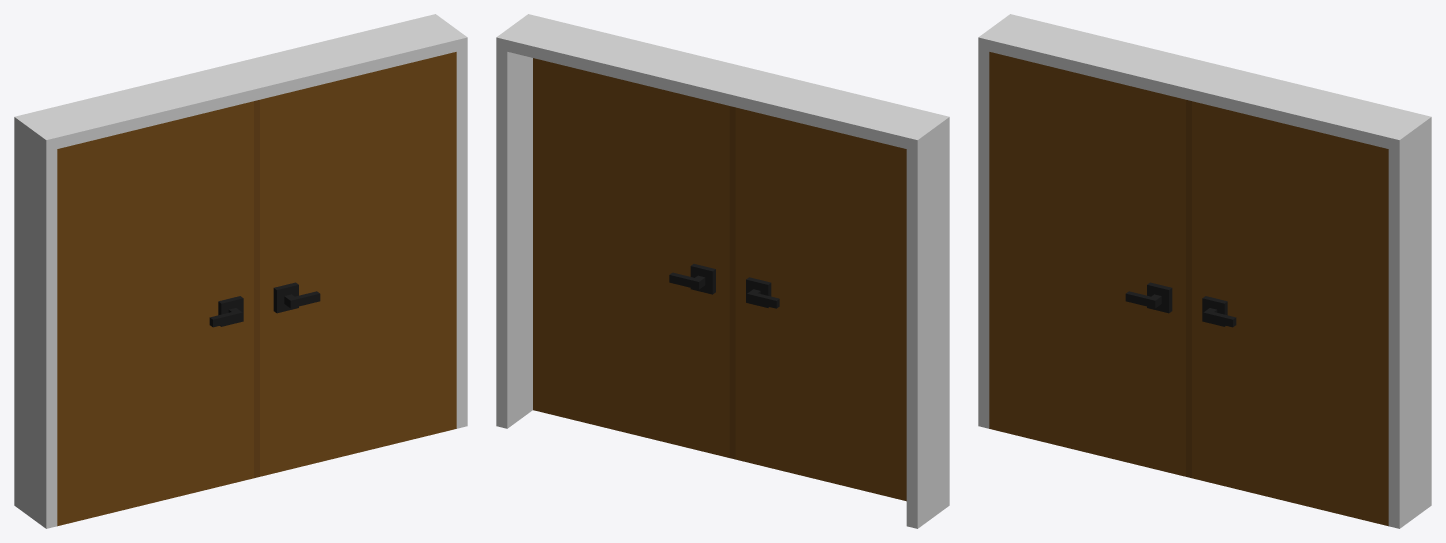
The model's file is classic_double_door.glb.
3 views of the same model, side by side, from view 1: azimuth 30°, elevation 25°; view 2: azimuth 150°, elevation 25°; view 3: azimuth 330°, elevation 25° (orthographic).
Parts seen in each view (by area): view 1: Door, Door.001, Frame, Frame.001, Door_handle.001, Door_handle; view 2: Door.001, Door, Frame, Frame.001, Door_handle.003, Door_handle.002; view 3: Door.001, Door, Frame.001, Frame, Door_handle, Door_handle.001.
Boxes of the visible parts, bbox=[...] form: Door: bbox=[57, 100, 256, 526]; Door.001: bbox=[257, 52, 456, 477]; Frame: bbox=[14, 65, 256, 528]; Frame.001: bbox=[225, 14, 467, 428]; Door_handle.001: bbox=[273, 282, 320, 313]; Door_handle: bbox=[209, 296, 243, 327]; Door.001: bbox=[533, 58, 732, 458]; Door: bbox=[732, 107, 906, 501]; Frame: bbox=[707, 65, 949, 528]; Frame.001: bbox=[496, 14, 738, 428]; Door_handle.003: bbox=[669, 264, 715, 294]; Door_handle.002: bbox=[746, 277, 779, 308]; Door.001: bbox=[1189, 100, 1388, 526]; Door: bbox=[989, 52, 1188, 477]; Frame.001: bbox=[1189, 65, 1431, 528]; Frame: bbox=[978, 14, 1220, 428]; Door_handle: bbox=[1125, 282, 1172, 313]; Door_handle.001: bbox=[1202, 296, 1236, 327].
Bounding box in the file's own units: 3.8 × 3.35 × 0.65.
